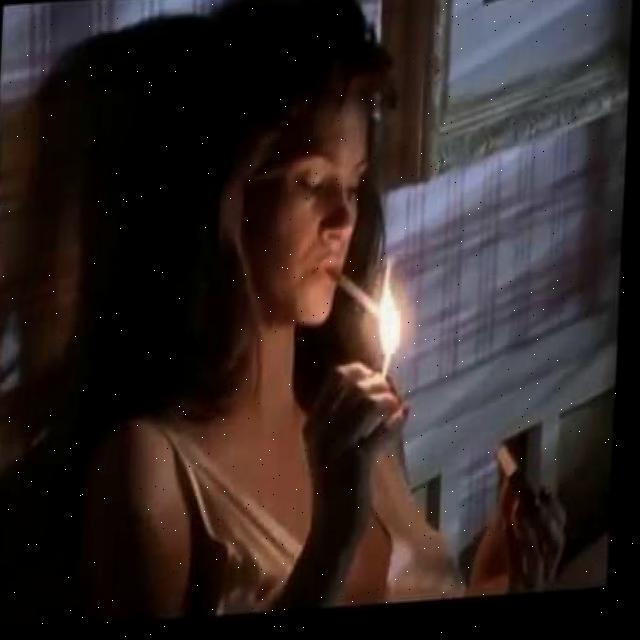cigarette: (324, 267, 393, 333)
